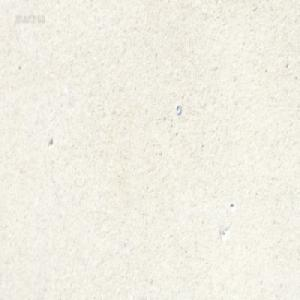Washer: (175, 104, 181, 115)
